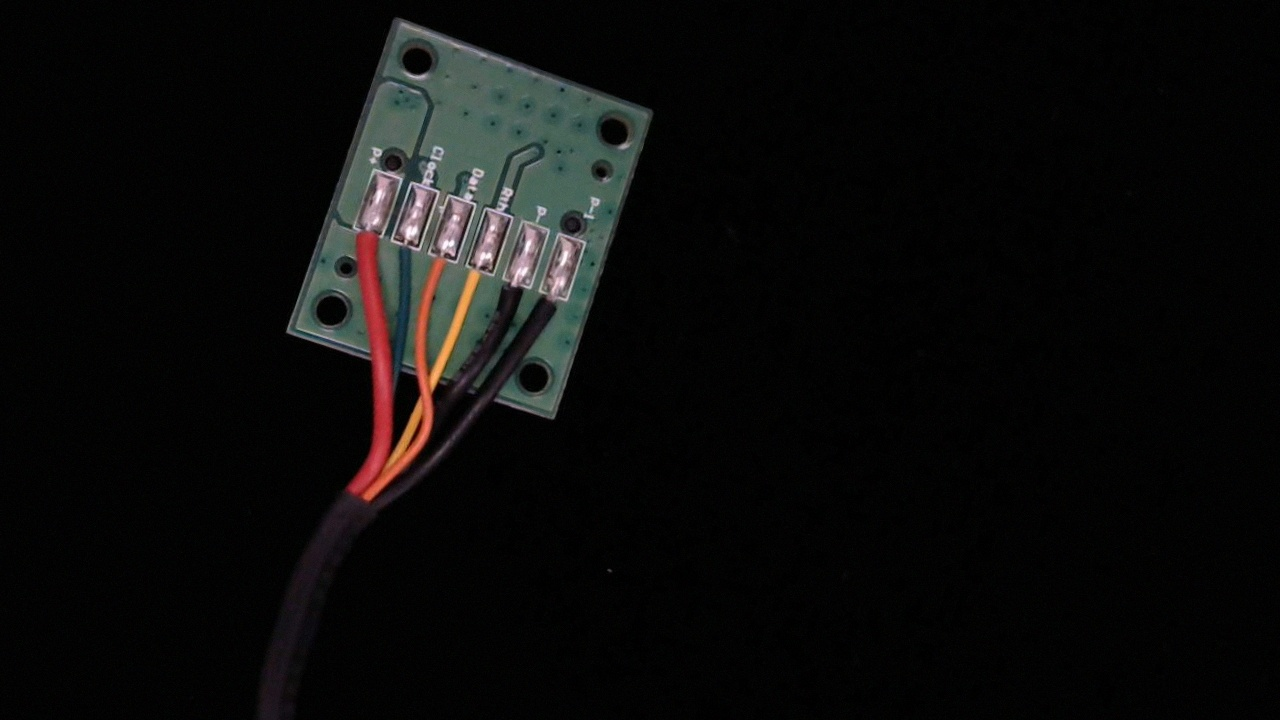Black: (486, 259, 537, 334)
Black1: (521, 273, 574, 350)
Green: (378, 223, 429, 296)
Orange: (411, 235, 462, 310)
Red: (340, 211, 390, 284)
Yellow: (453, 247, 498, 317)
